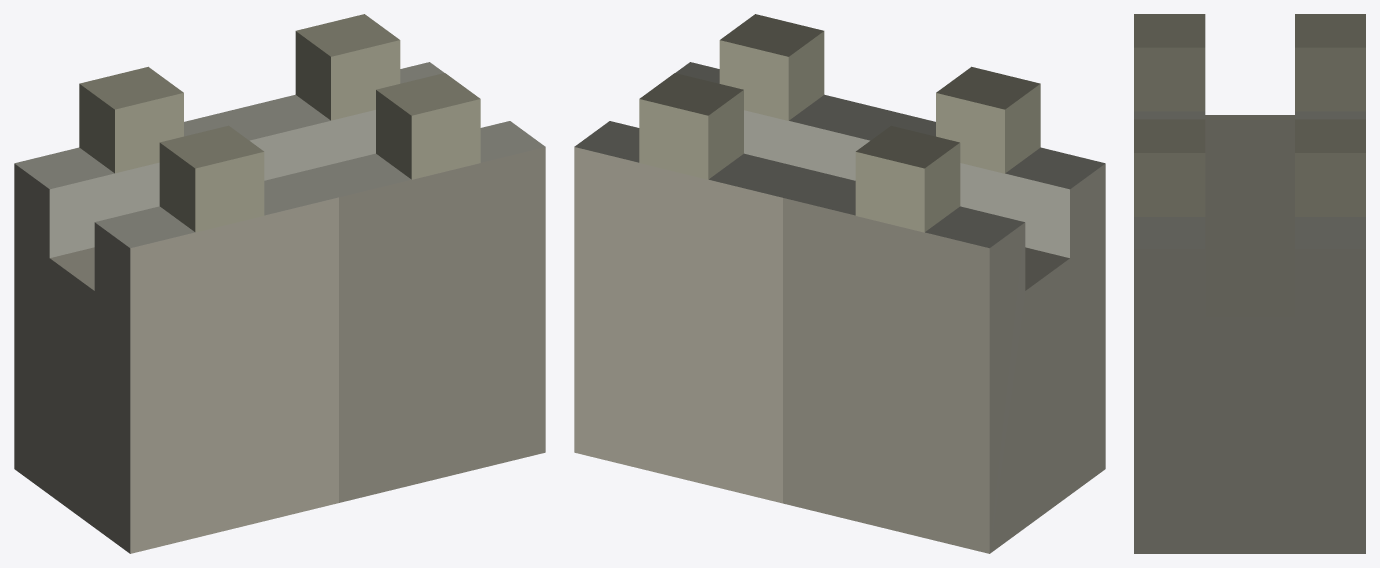
Rendered from castle14.fbx.
The picture shows the model from 3 angles, left to right: view 1: azimuth 30°, elevation 25°; view 2: azimuth 150°, elevation 25°; view 3: azimuth 270°, elevation 25°; orthographic projection.
Parts seen in each view (by area): view 1: castle14; view 2: castle14; view 3: castle14.
Part boxes in pixels (bbox=[...]): castle14: bbox=[14, 14, 545, 553]; castle14: bbox=[574, 14, 1105, 553]; castle14: bbox=[1134, 14, 1365, 553].
Bounding box in the file's own units: 2.03 × 1.72 × 0.98.
Materials: 1 (1 with a texture image).
